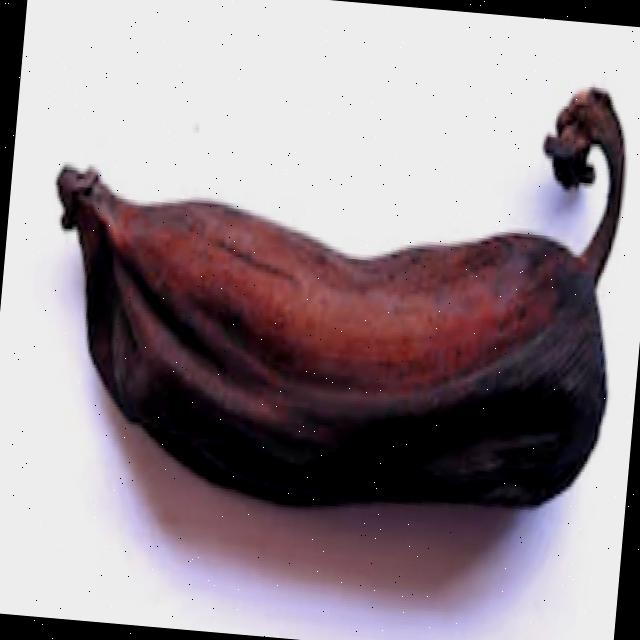Rotten: (10, 26, 640, 587)
